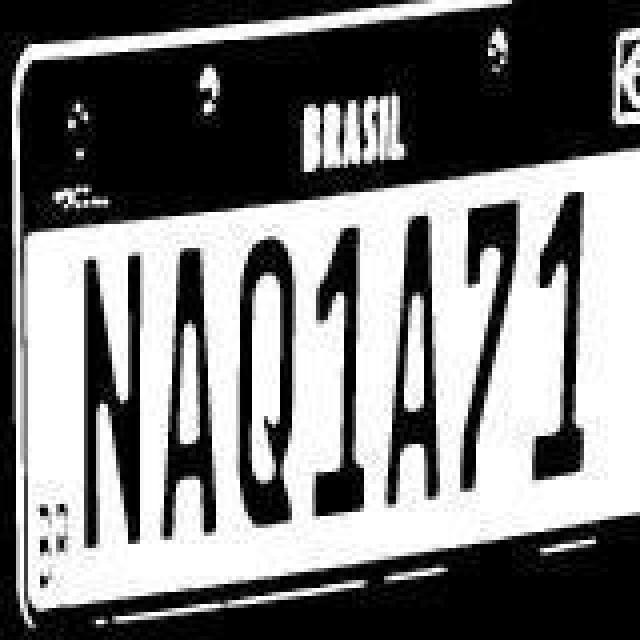1: (528, 190, 592, 490), (314, 212, 374, 508)
7: (462, 196, 530, 500)
A: (372, 196, 444, 508), (154, 232, 222, 552)
N: (76, 248, 148, 560)
Q: (230, 238, 298, 530)
